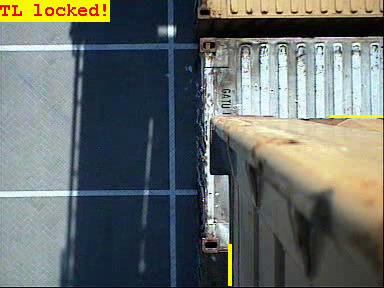groundmarker_2: (112, 169, 203, 209), (112, 224, 203, 264)
